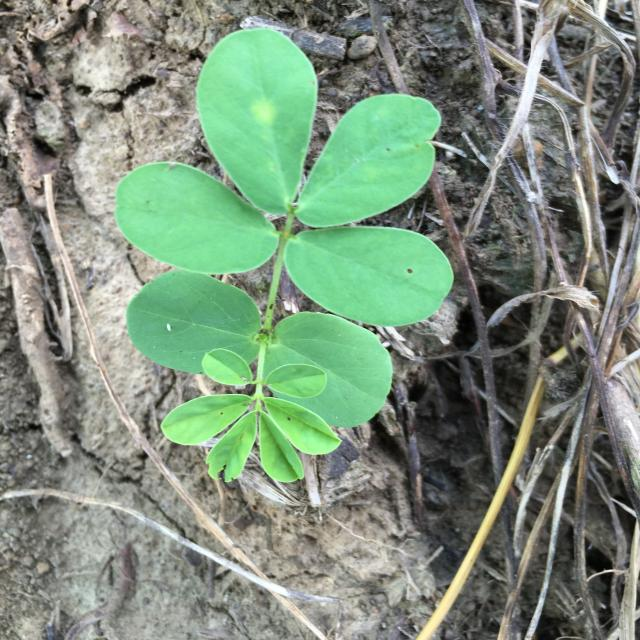Sicklepod: (115, 28, 454, 483)
